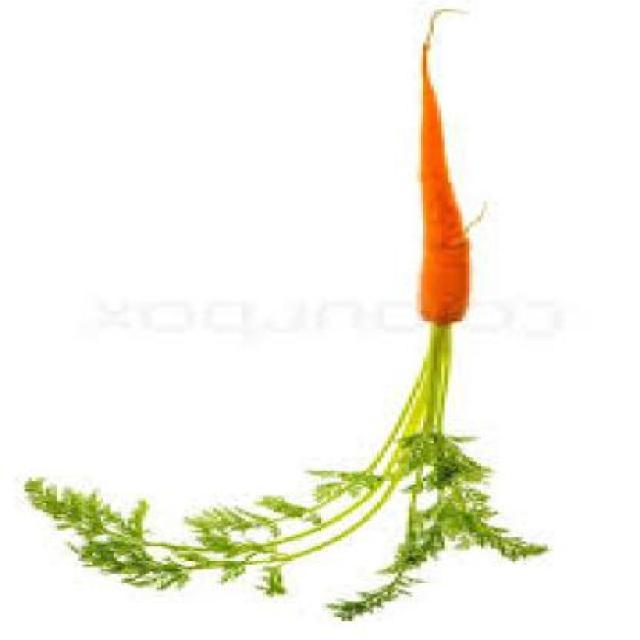BIODEGRADABLE: (36, 322, 556, 620), (424, 11, 476, 327)
